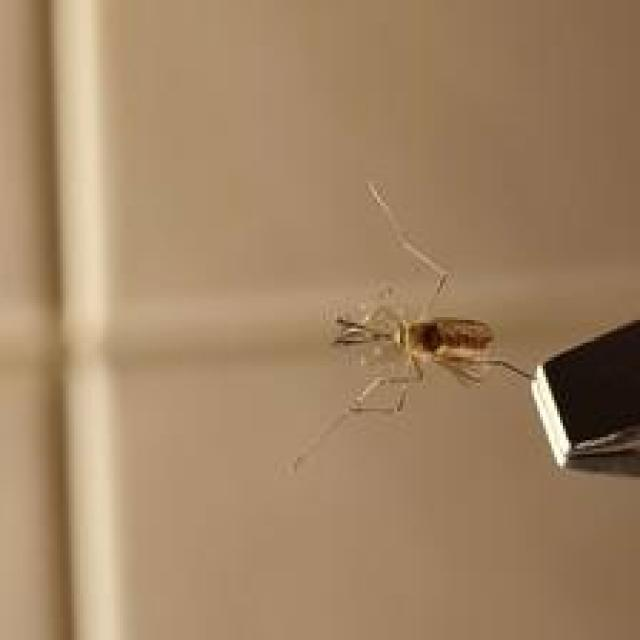Culex: (290, 180, 536, 474)
